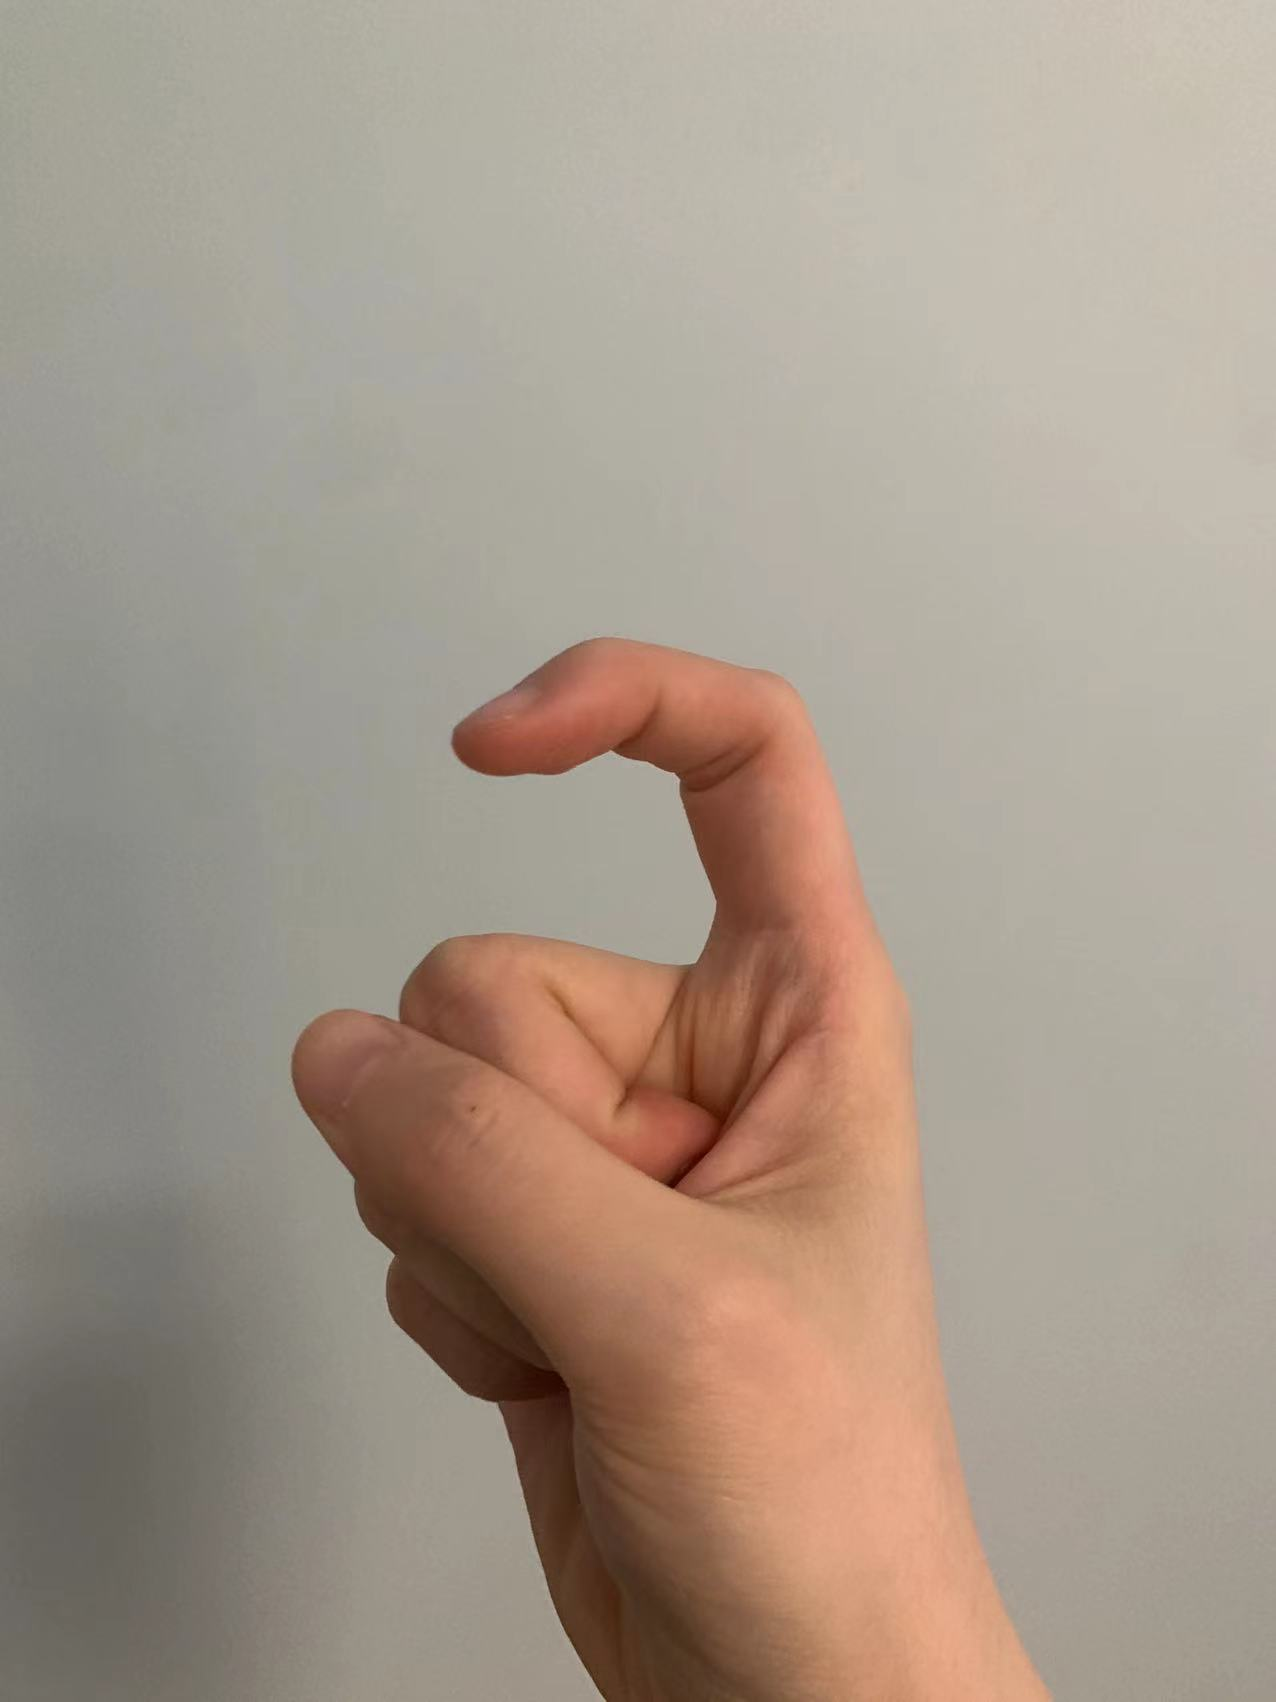anticlockwise: (273, 637, 982, 1622)
